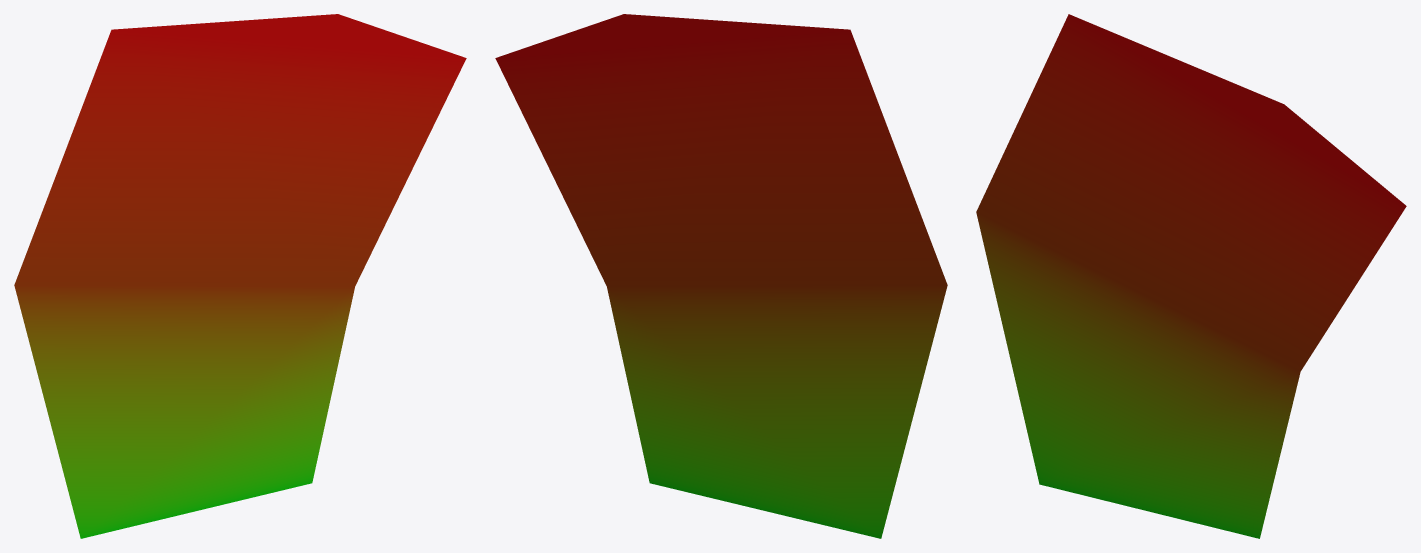
Rendered from Cotton Grass_LOD4_Var13_wlykecdia.fbx.
3 renders of one model, left to right at view 1: azimuth 30°, elevation 25°; view 2: azimuth 150°, elevation 25°; view 3: azimuth 330°, elevation 25°, orthographic. The views are drawn at different scales.
Visible parts, largest first — view 1: _ijyc_Var13_LOD4; view 2: _ijyc_Var13_LOD4; view 3: _ijyc_Var13_LOD4.
Boxes of the visible parts, box(x1,y1,x2,y2) form: _ijyc_Var13_LOD4: box(14, 14, 466, 538); _ijyc_Var13_LOD4: box(495, 14, 947, 538); _ijyc_Var13_LOD4: box(976, 14, 1406, 538).
Size of the model in its own units: 18.06 by 19.17 by 2.05e-07.
